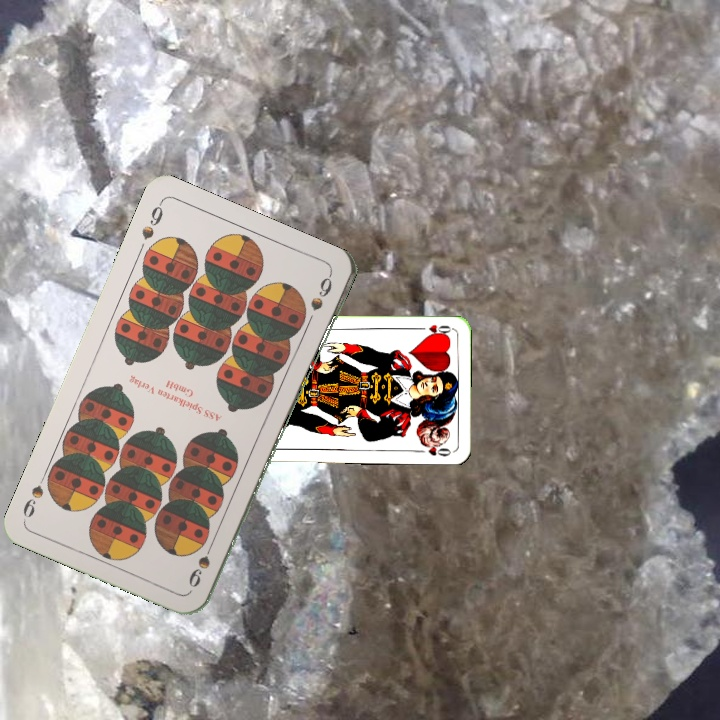HO: (414, 320, 455, 339)
S9: (185, 536, 218, 590), (137, 198, 166, 243)
